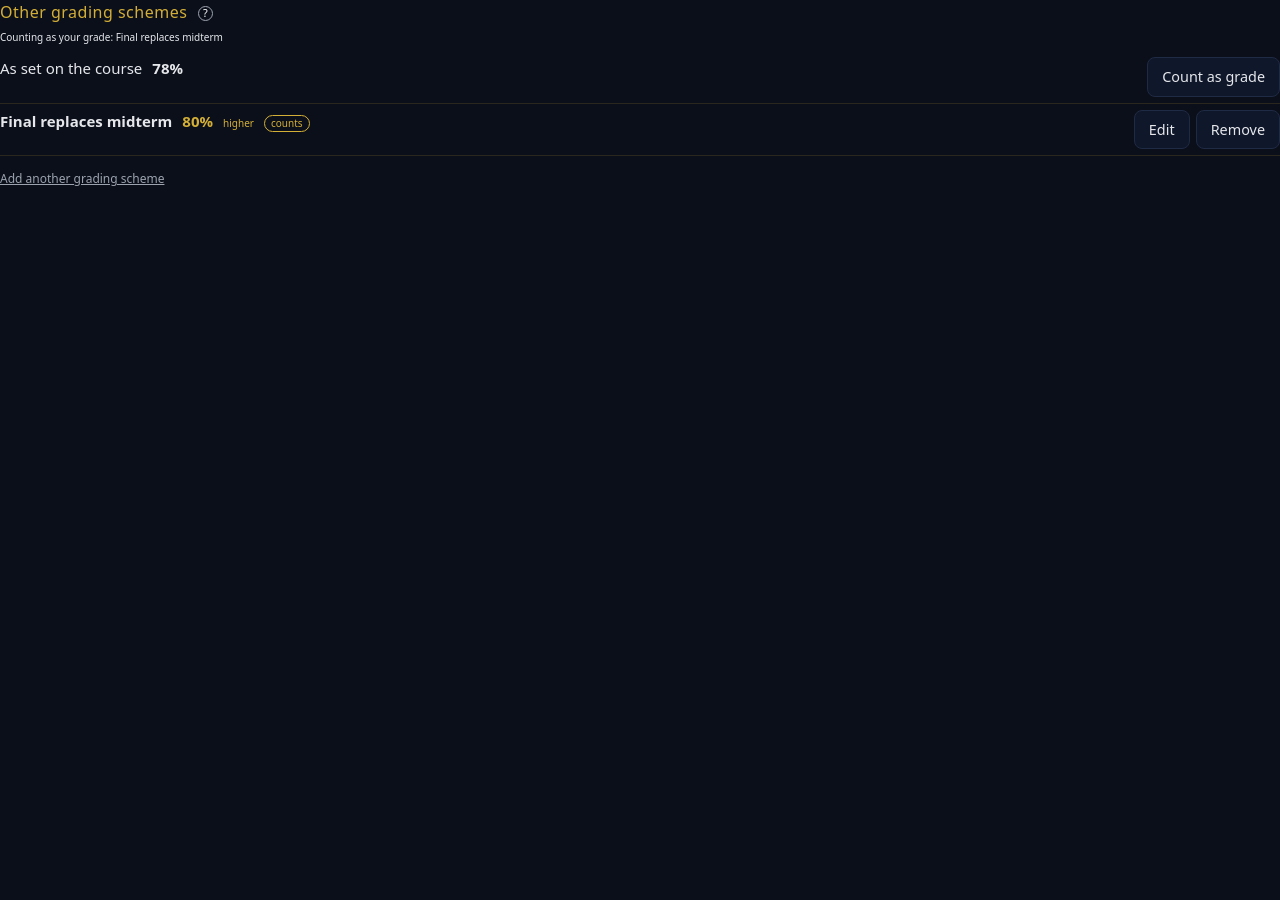
Test: GradingSchemes › warns that removing the counting scheme puts the own weights back
Click the button "Remove" at (1238, 129), box [1196,110,1279,149]
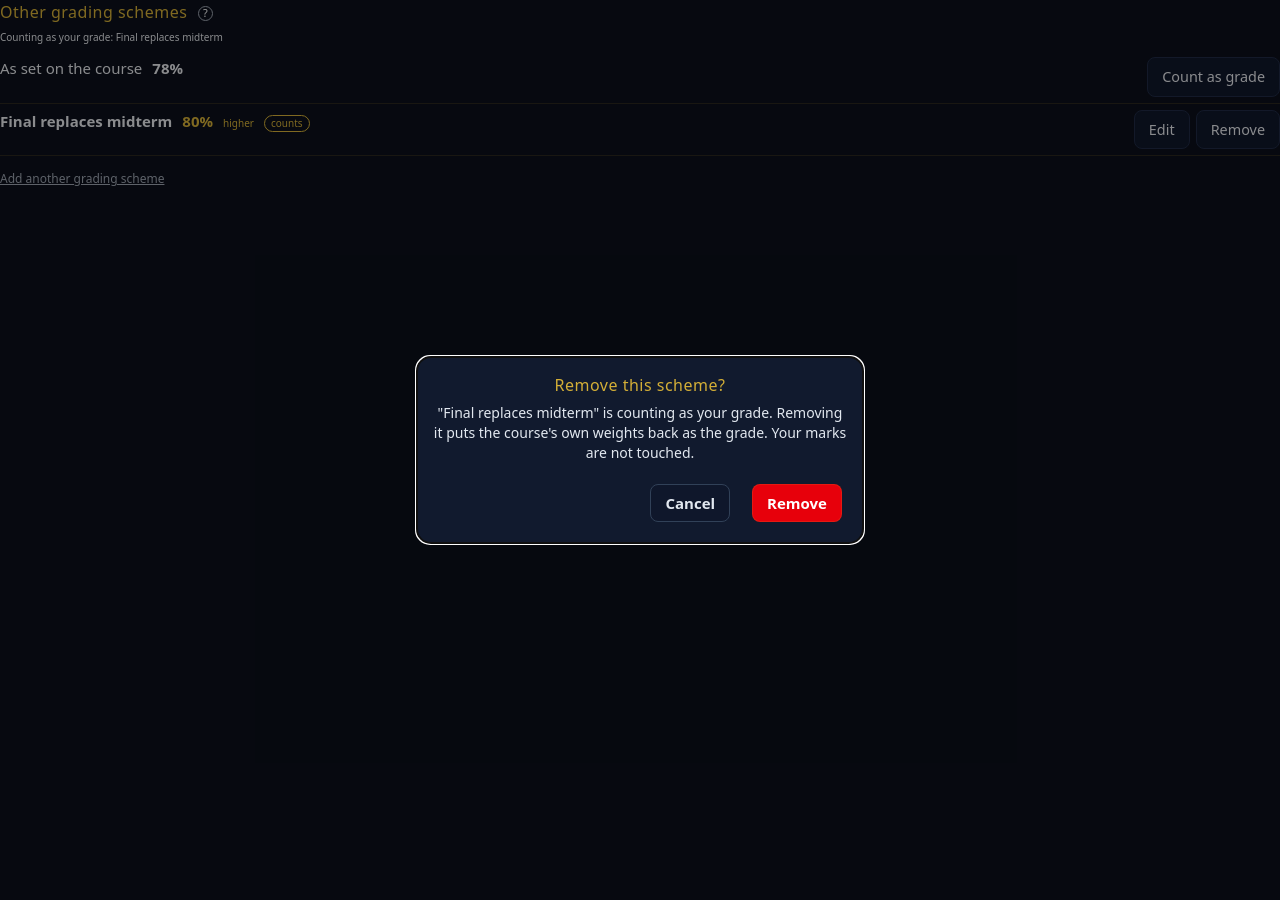
Expected: the text "is counting as your grade" is shown, [434,403,846,462]
